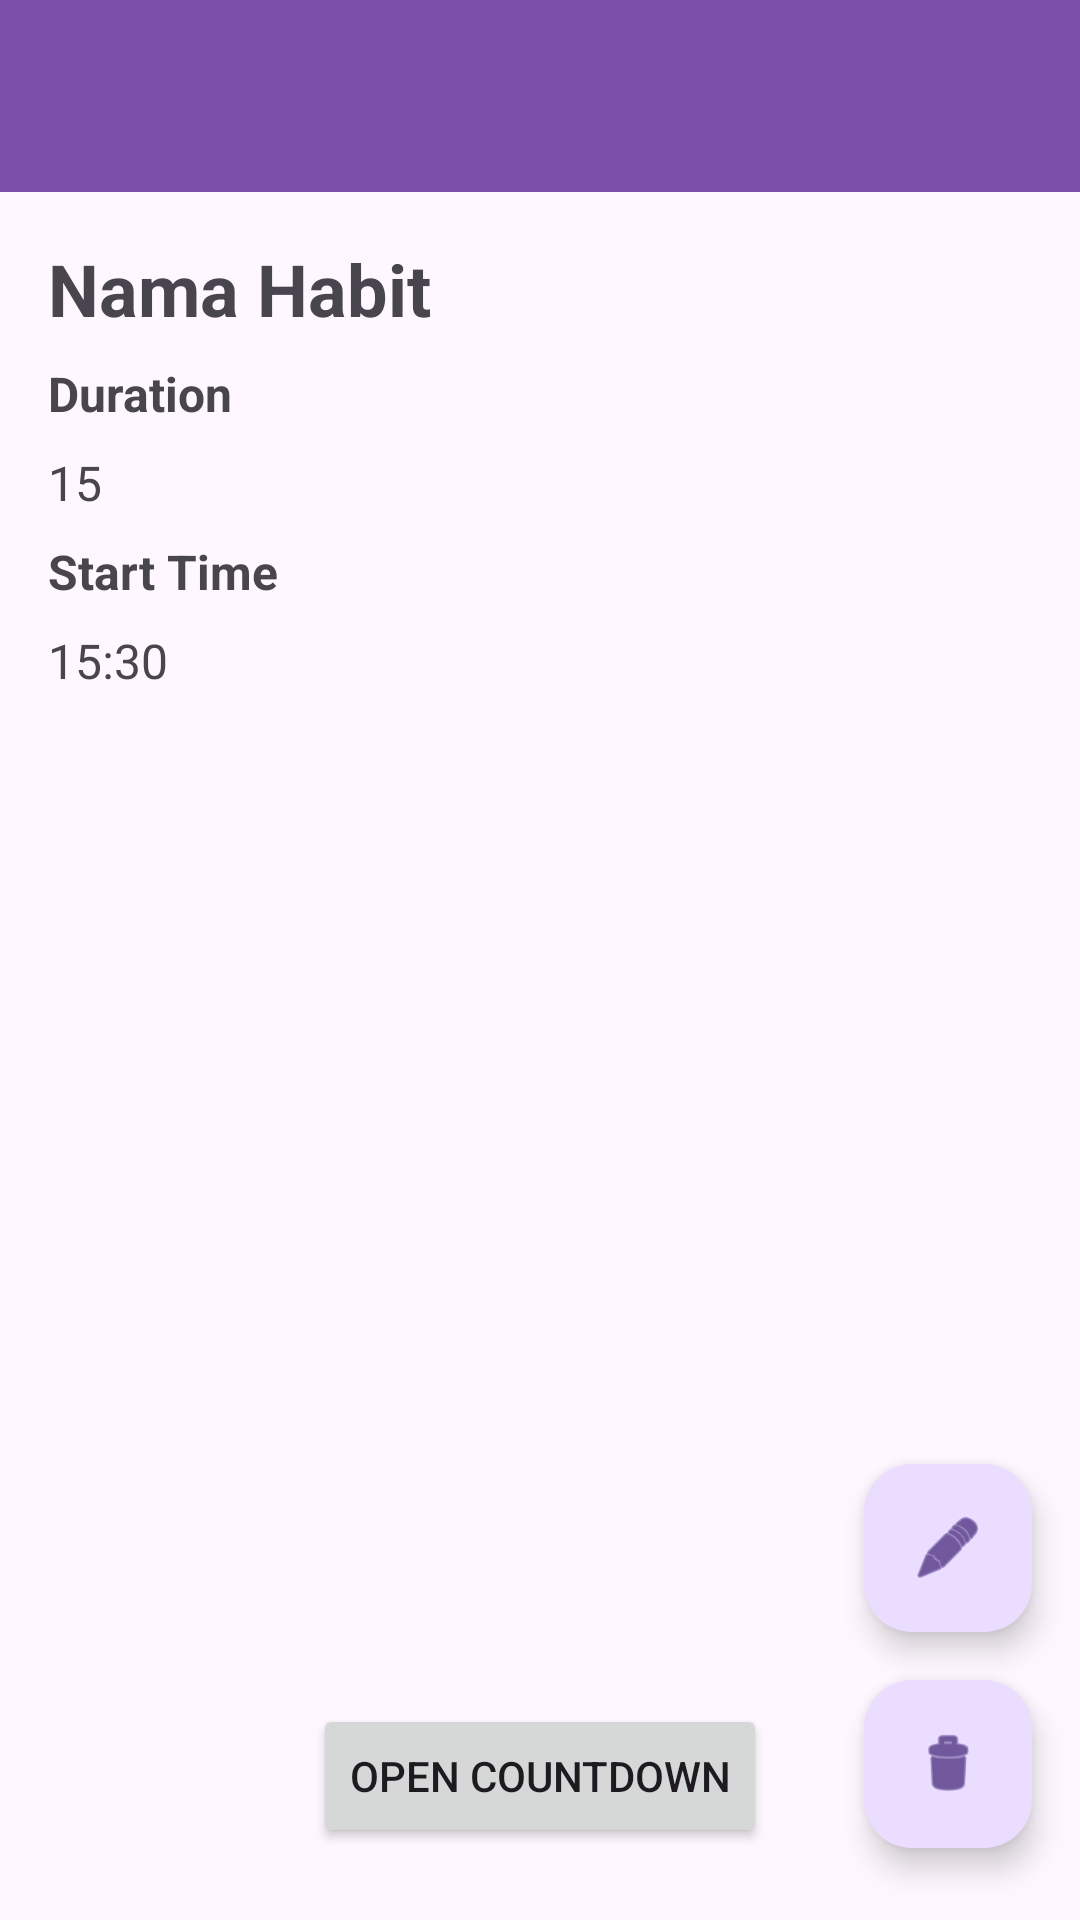

Screen size 1080px×1920px. Icon name, then its box in pixels as (x1, y1, x2, y2):
delete: (864, 1680, 1032, 1848)
edit: (864, 1464, 1032, 1632)
